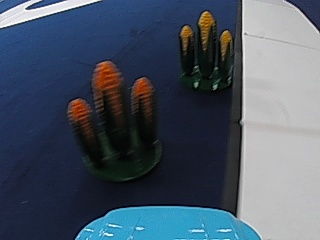corn: (66, 60, 160, 180), (174, 8, 236, 92)
